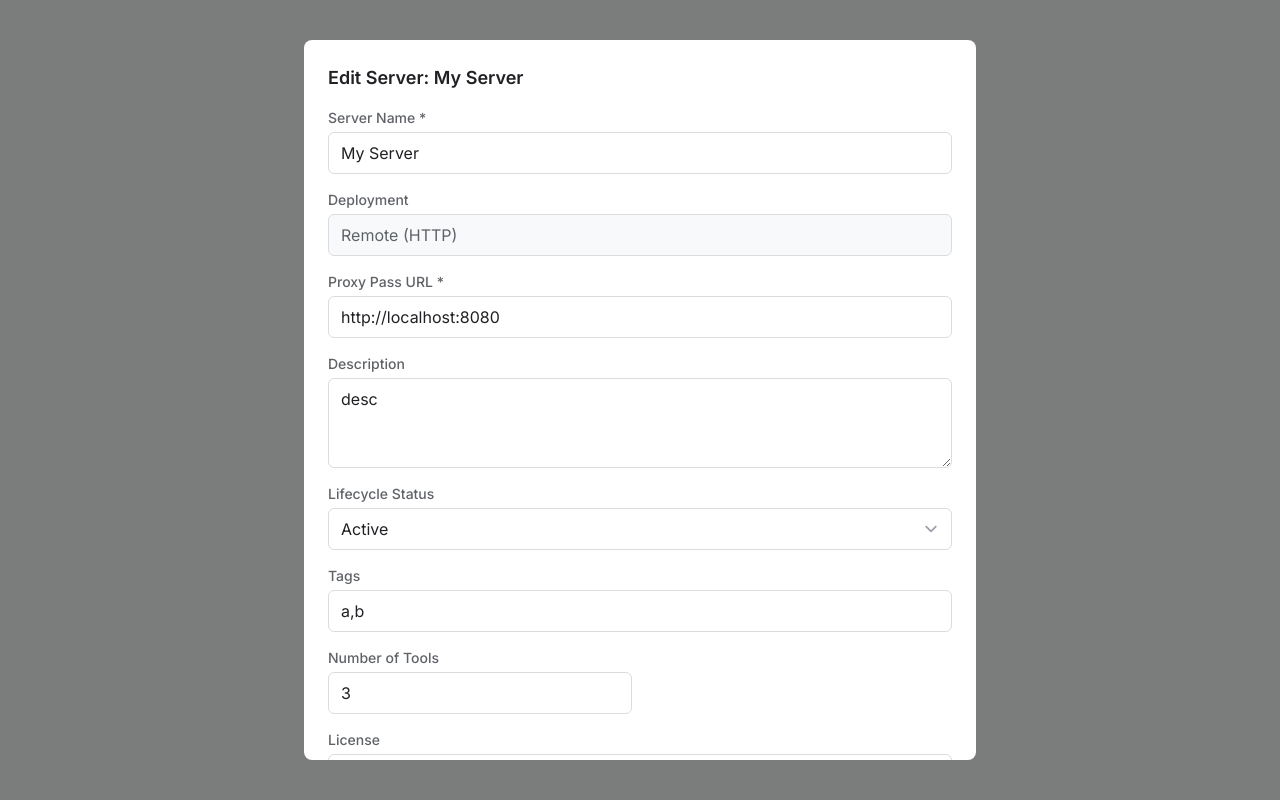
Scenario: ServerEditModal › edits a controlled field
Replace the text in the field showing "My Server" below "Server Name *" with "Renamed": point(640, 153) [328, 132, 952, 174]
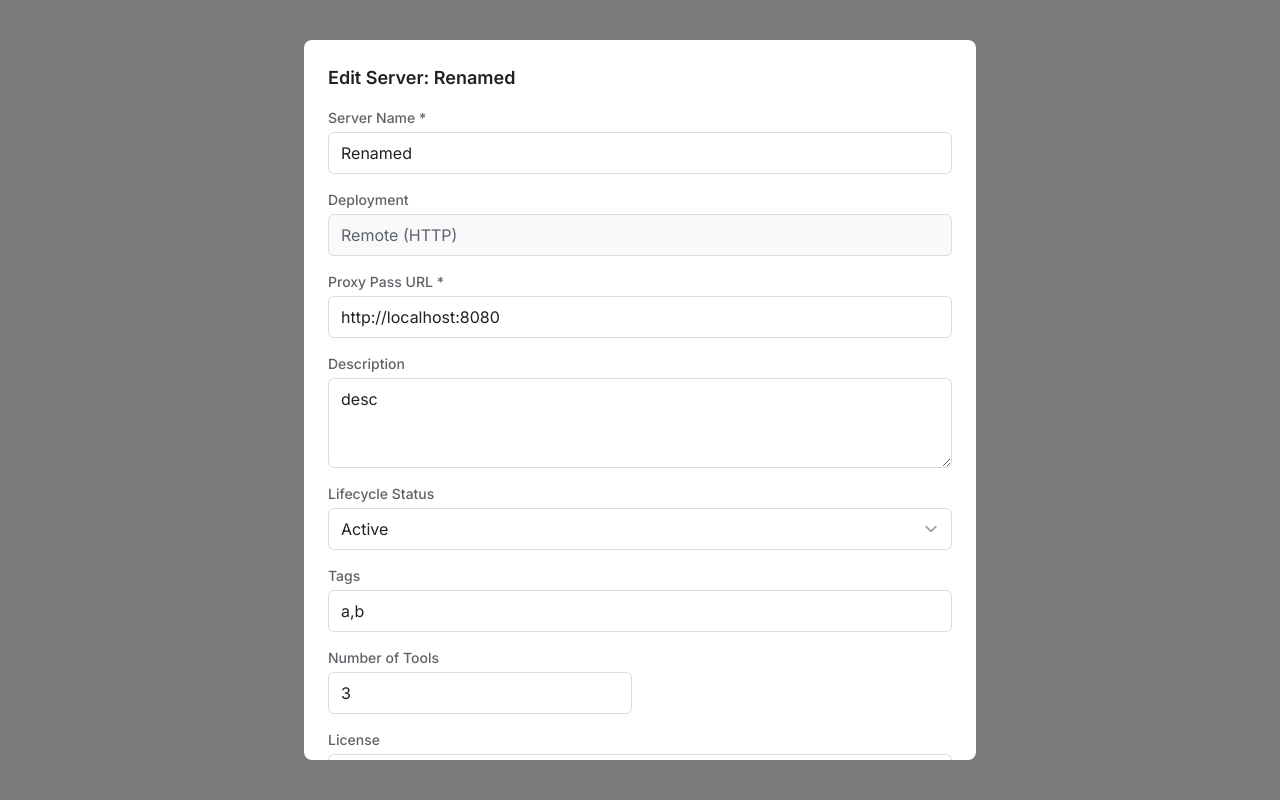
Result: the heading "Edit Server: Renamed" is shown at [328, 67, 515, 88]
